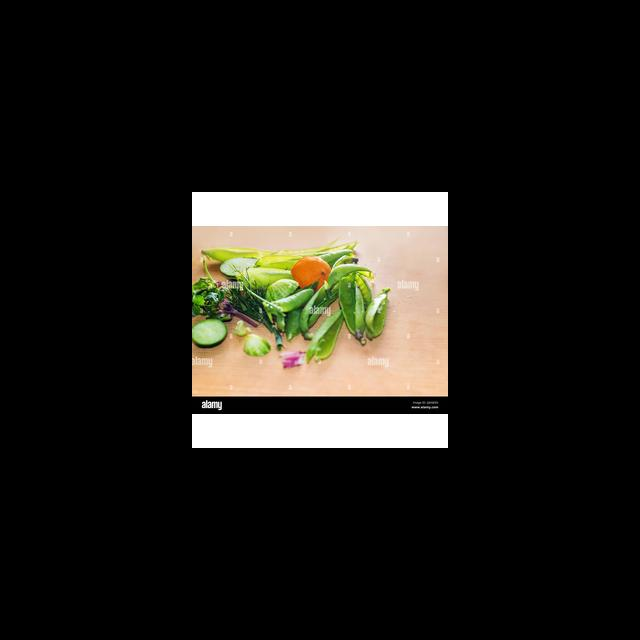food_waste: (192, 264, 248, 314), (303, 319, 354, 361), (232, 314, 270, 368), (192, 309, 236, 352), (294, 254, 341, 291), (366, 279, 395, 336)
